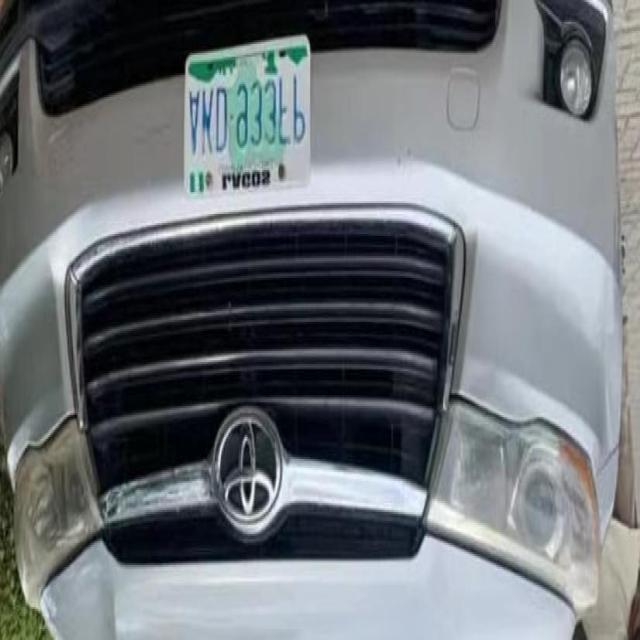Nigerian License Plate - vdataset benjamin-daria: (187, 47, 308, 206)
